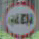Heavy Vehicles: (4, 4, 36, 33)
